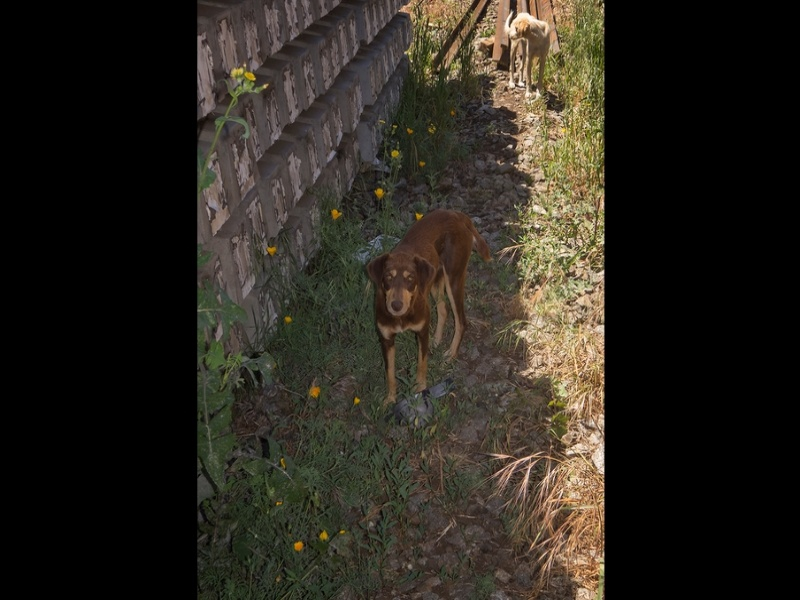dog: (368, 212, 475, 408), (500, 8, 558, 107)
